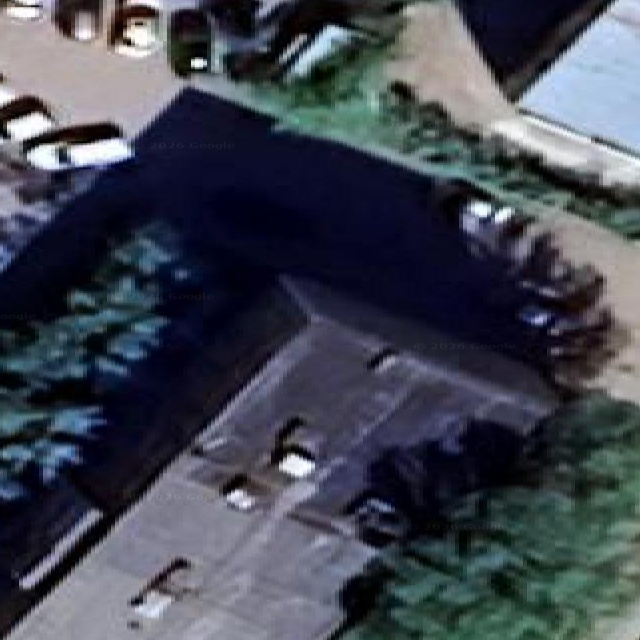car: (432, 180, 612, 387), (208, 0, 372, 79), (436, 180, 532, 258), (517, 303, 612, 360), (24, 123, 132, 171), (278, 24, 364, 76), (520, 260, 604, 311), (348, 492, 407, 546), (108, 0, 163, 55), (167, 8, 211, 76), (460, 199, 527, 243), (198, 0, 267, 40), (272, 420, 320, 477), (0, 96, 55, 140), (512, 230, 560, 280), (55, 0, 101, 40), (3, 0, 43, 20), (0, 74, 16, 105), (240, 2, 246, 4)
